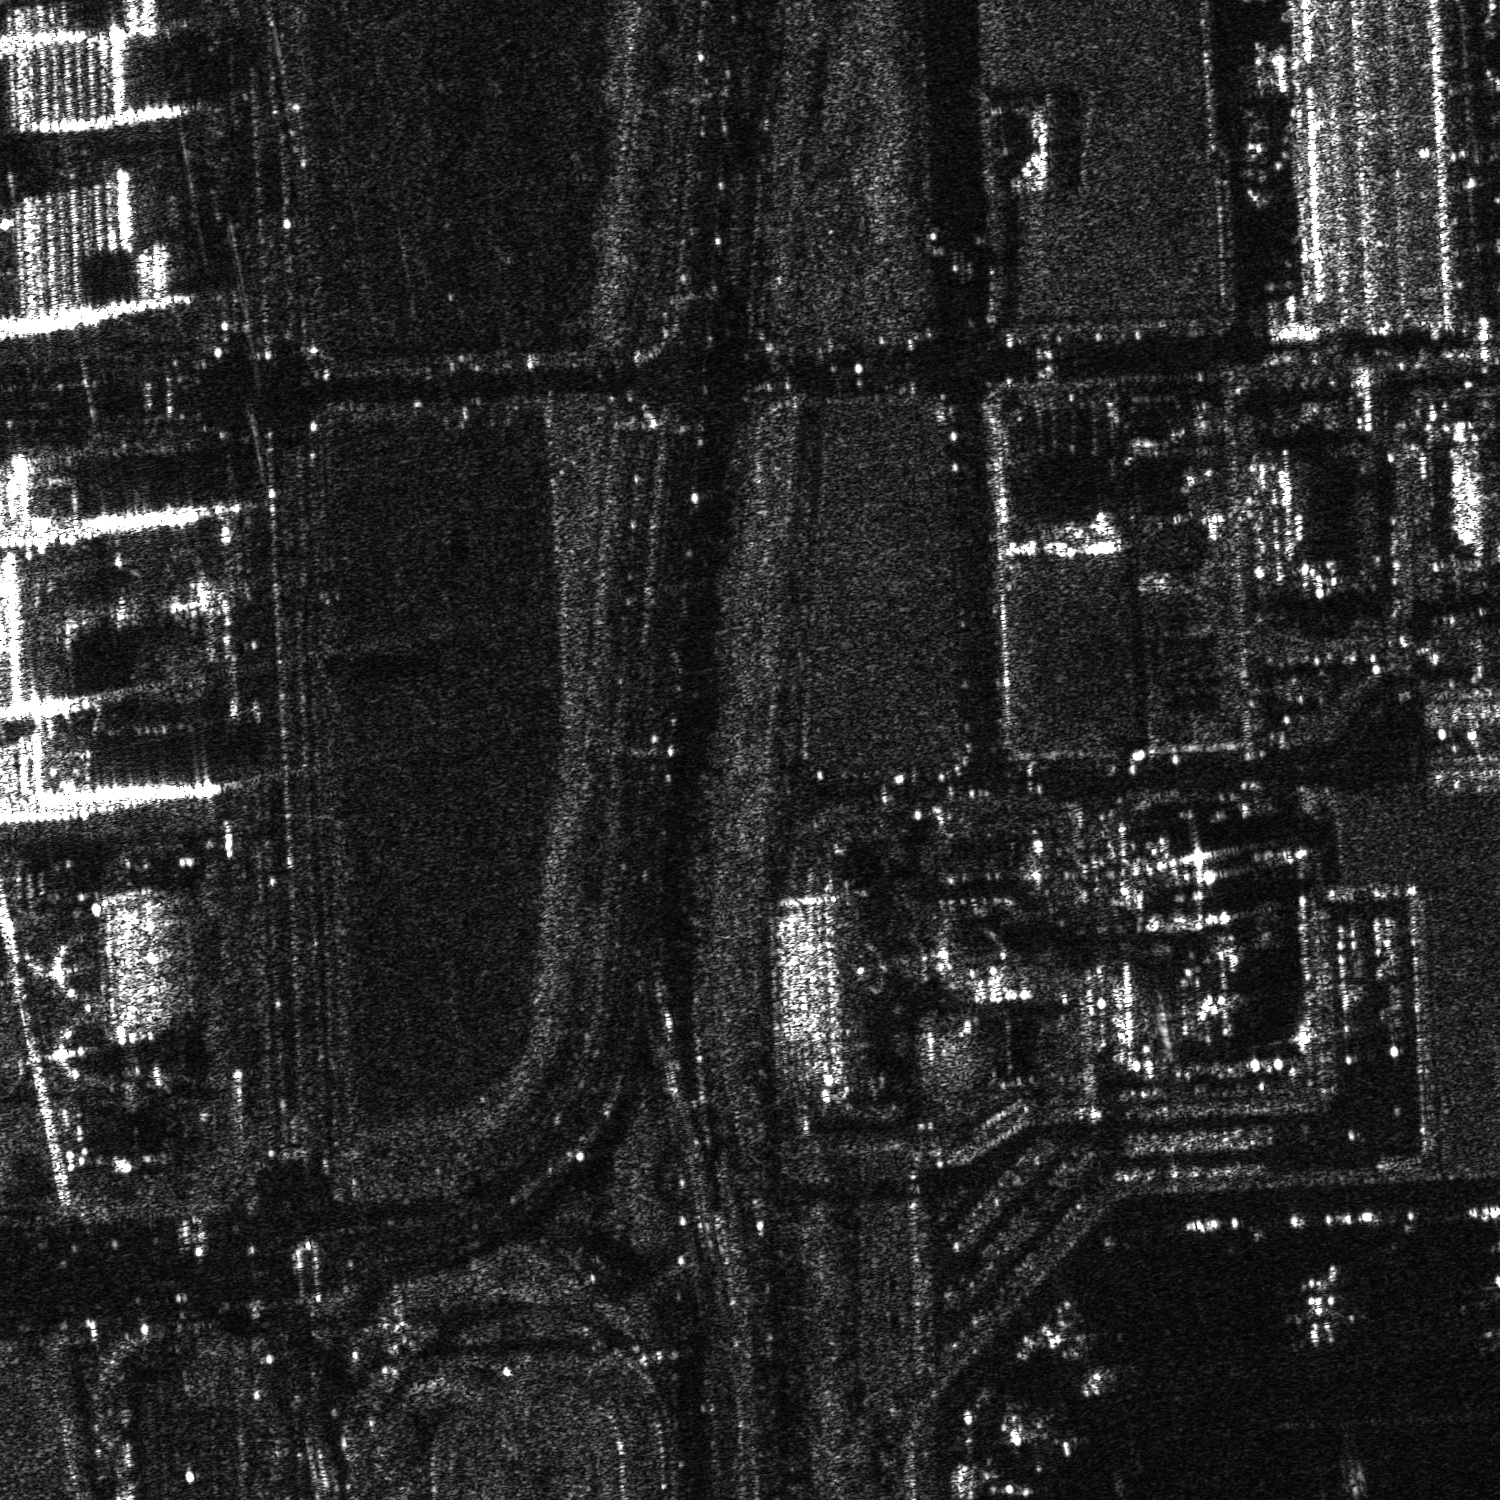A220: (1037, 1328, 1128, 1398), (1003, 1407, 1089, 1477)
Boeing737: (1273, 1260, 1370, 1353)
